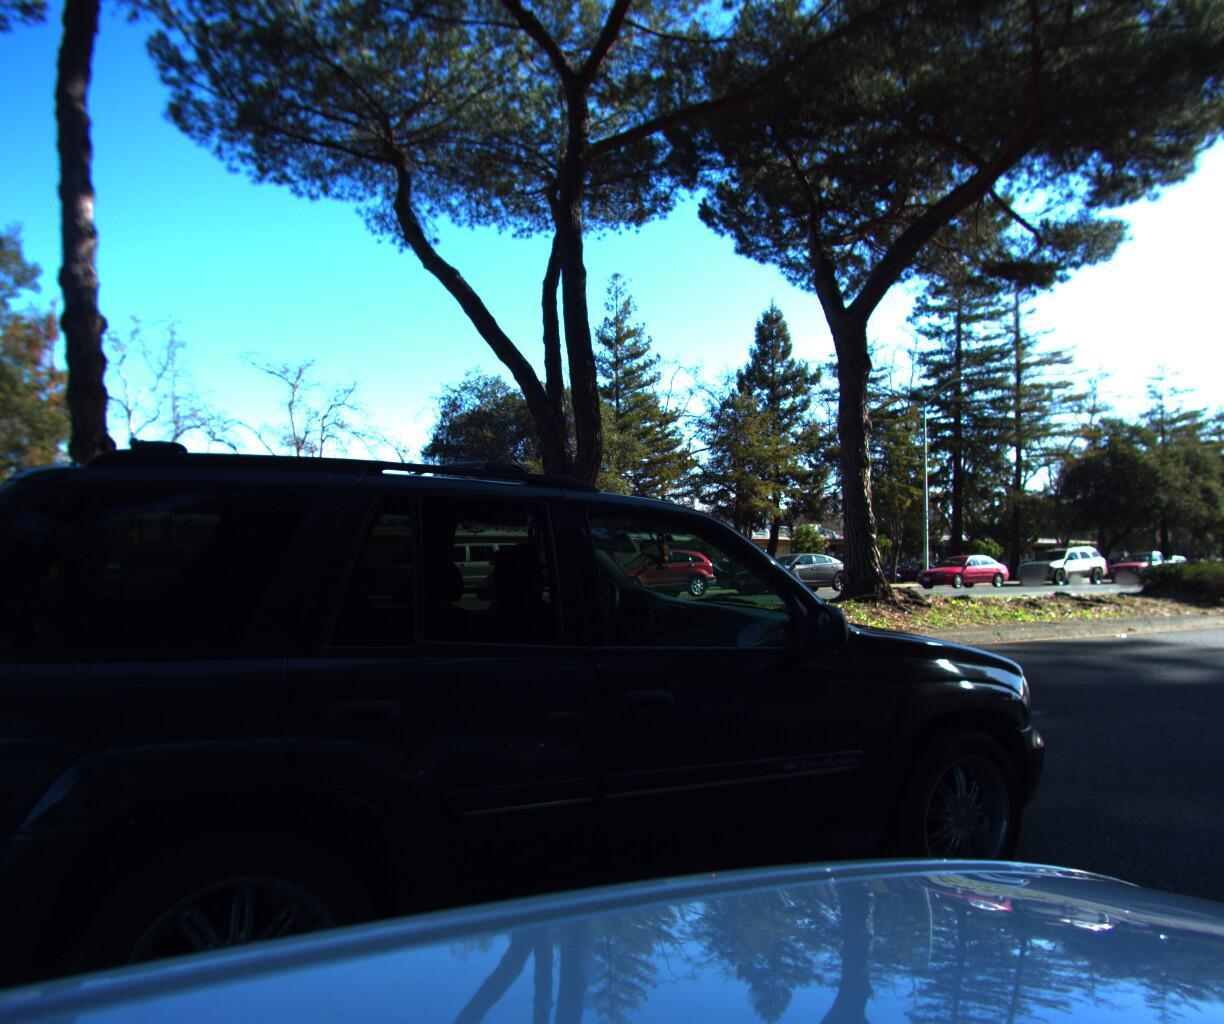car: (0, 318, 1115, 1024), (582, 545, 725, 600), (725, 550, 865, 597), (1005, 544, 1109, 584), (907, 551, 1013, 589), (1101, 548, 1186, 584)
